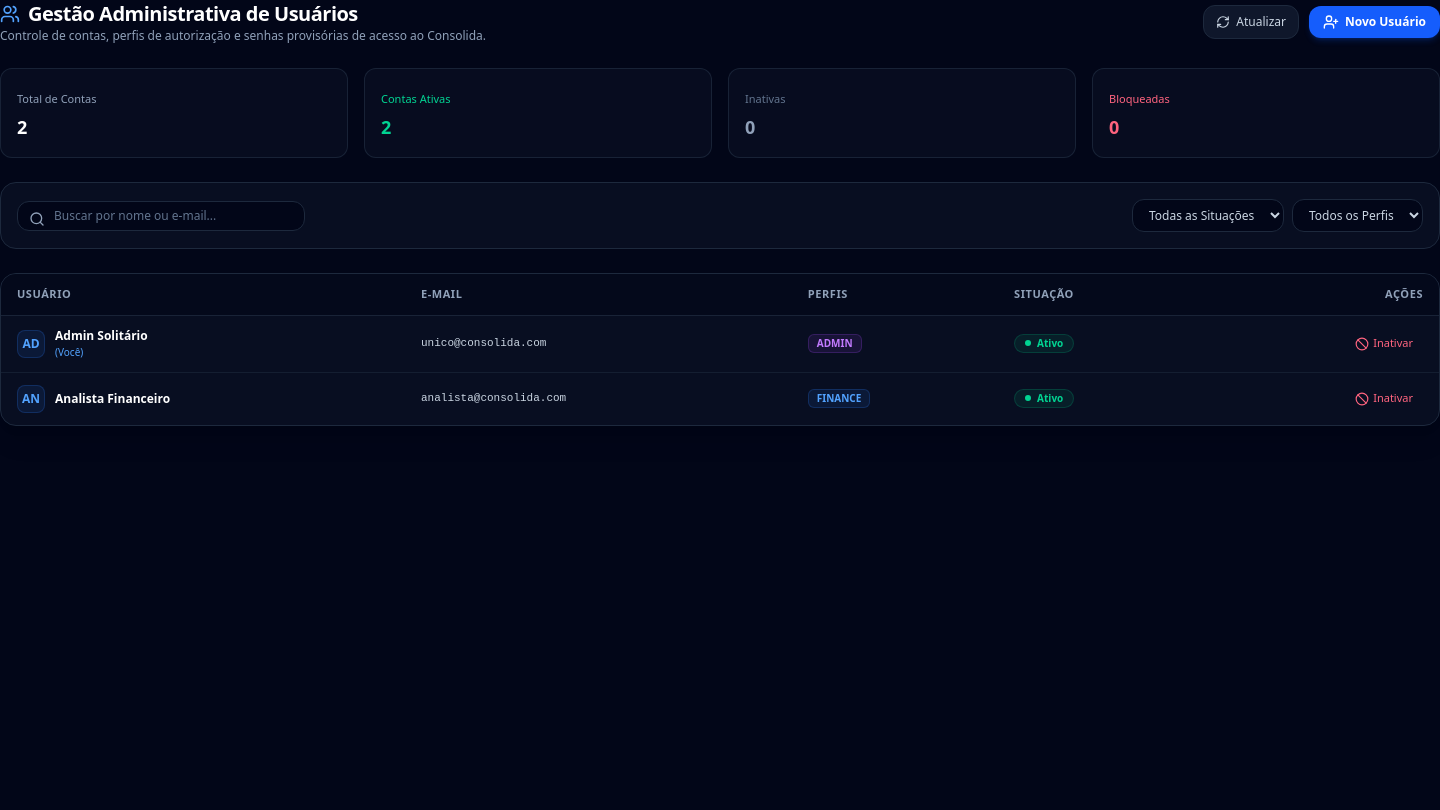
Auditoria Técnica — Testes de Cenários Negativos (Seção 6) › 6. Cenário Negativo: Tentativa de inativar o único administrador ativo deve ser bloqueada na UI e no serviço
expect the text "Admin Solitário" is shown: met, box [55,328,148,344]
Clica no botão Inativar do Admin
Click the button titled "Inativar usuário" in the row of "Admin Solitário".
click(1384, 344)  # box [1345,332,1423,355]
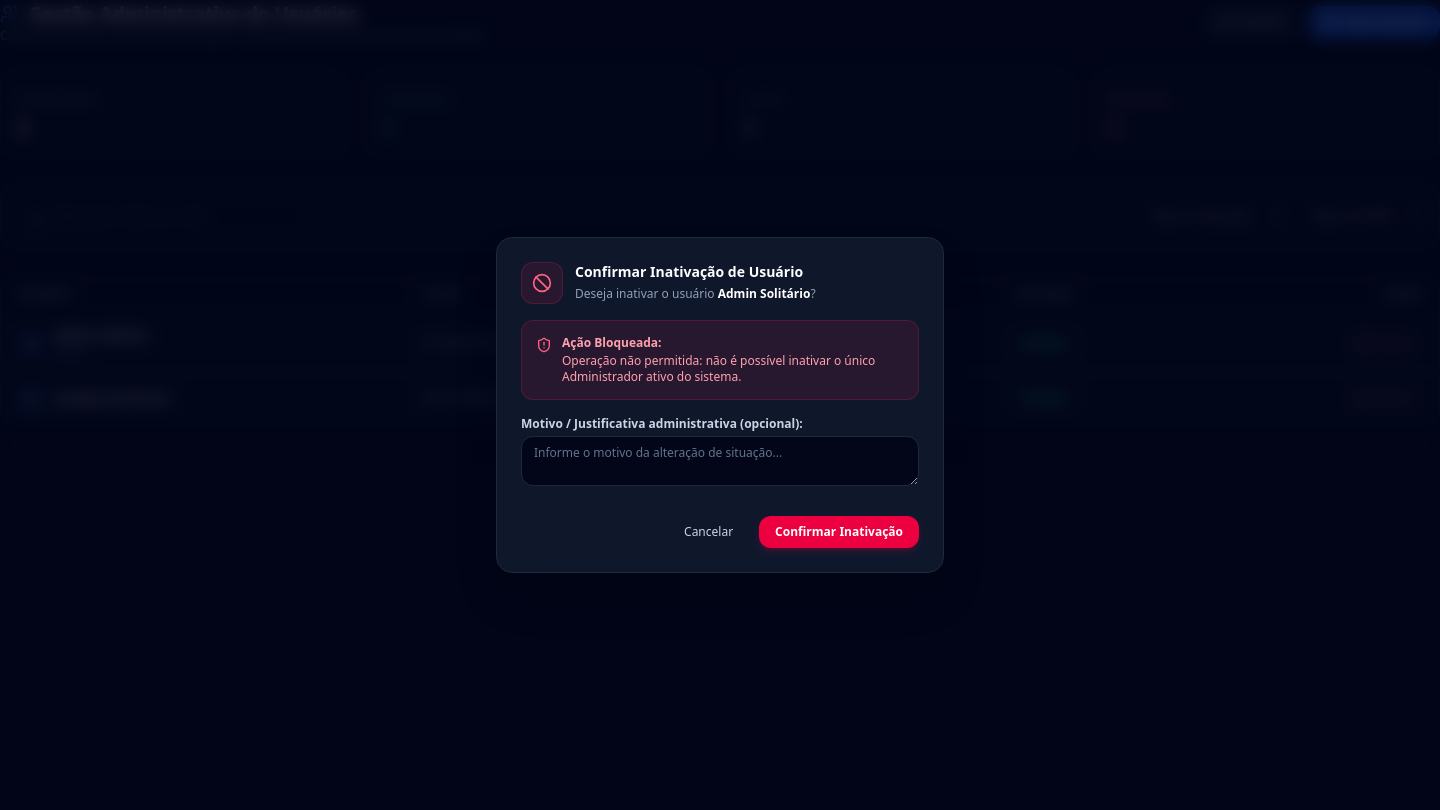
expect the text "Ação Bloqueada:" is shown: met, box [562,334,662,351]
expect the text "Operação não permitida: não é possível inativar o único Administrador ativo do sistema." is shown: met, box [562,352,875,385]
expect the button "Confirmar Inativação" is disabled: met, box [759,516,919,548]
